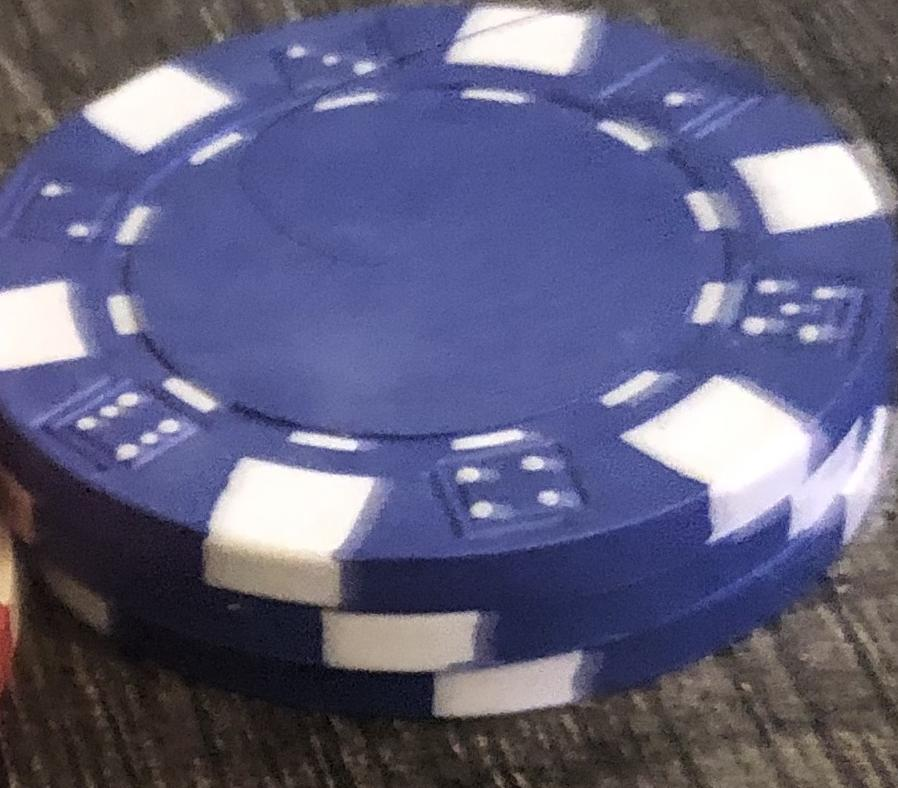Chip: (1, 1, 898, 788)
